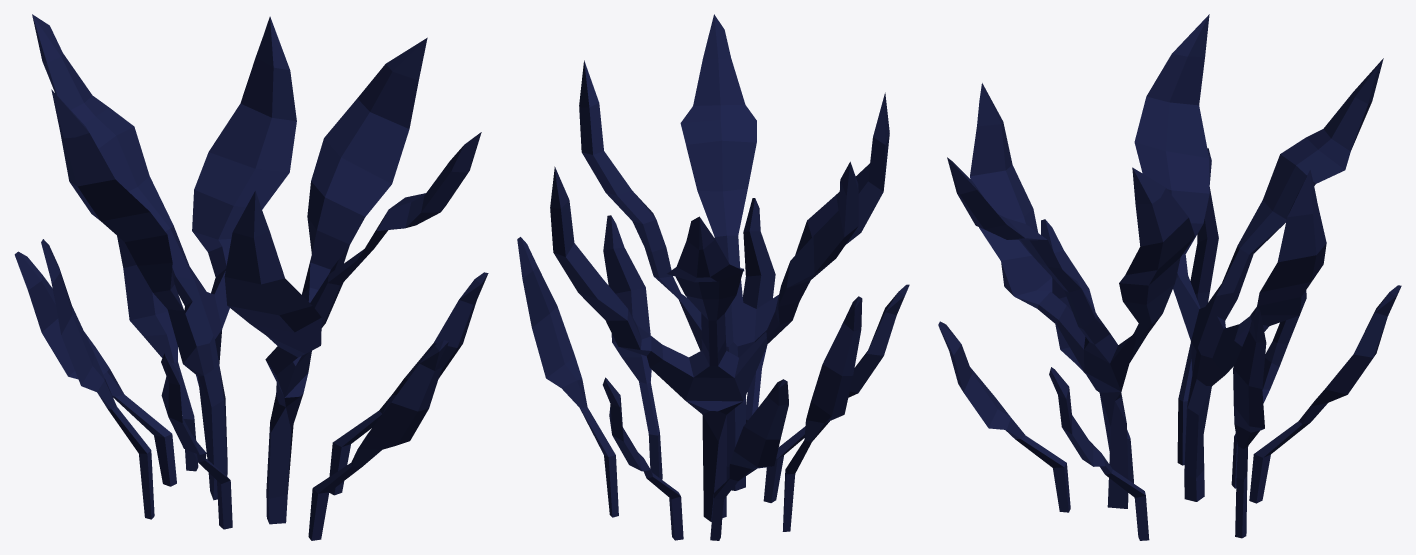
File: folliage_1_healthy.fbx
3 renders of one model, left to right at view 1: azimuth 30°, elevation 25°; view 2: azimuth 150°, elevation 25°; view 3: azimuth 270°, elevation 25°, orthographic. The views are drawn at different scales.
Visible parts, largest first — view 1: folliage_1_healthy; view 2: folliage_1_healthy; view 3: folliage_1_healthy.
Boxes of the visible parts, x1=… form: folliage_1_healthy: x1=14, y1=14, x2=488, y2=540; folliage_1_healthy: x1=517, y1=14, x2=909, y2=540; folliage_1_healthy: x1=938, y1=14, x2=1401, y2=540.
Size of the model in its own units: 0.4708 by 0.5533 by 0.5412.
